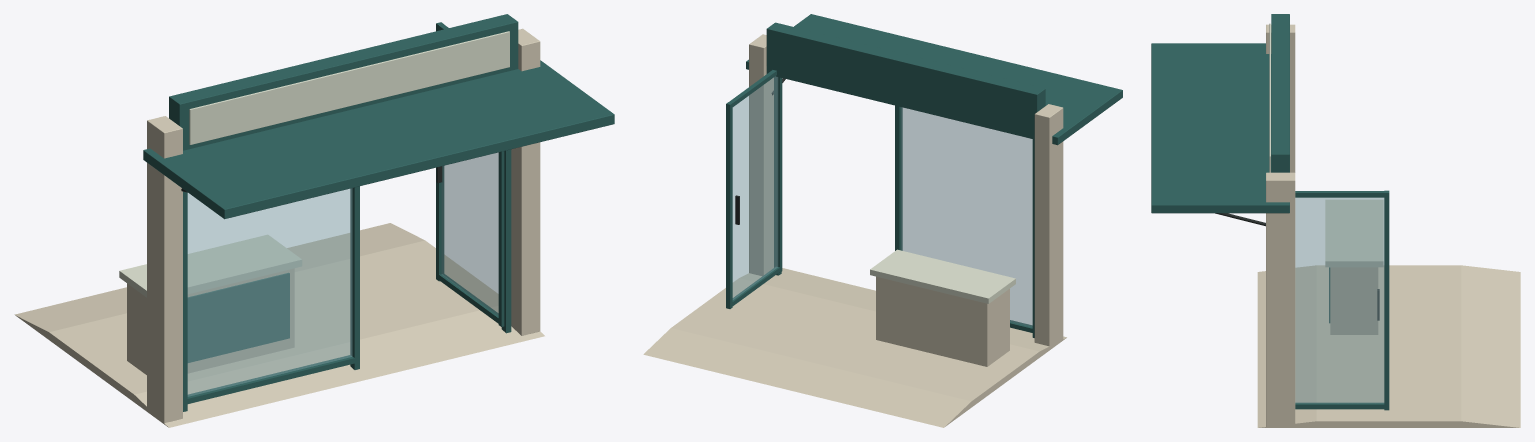
File: provision_shop.glb
3 views of the same model, side by side, from view 1: azimuth 30°, elevation 25°; view 2: azimuth 150°, elevation 25°; view 3: azimuth 270°, elevation 25° (orthographic). The views are drawn at different scales.
Visible parts, largest first — view 1: provision_shop; view 2: provision_shop; view 3: provision_shop.
Part boxes in pixels (box(x1,y1,x2,y2)): provision_shop: box(14, 14, 614, 427); provision_shop: box(643, 14, 1122, 427); provision_shop: box(1151, 14, 1520, 427).
Size of the model in its own units: 4.15 by 3.18 by 4.
